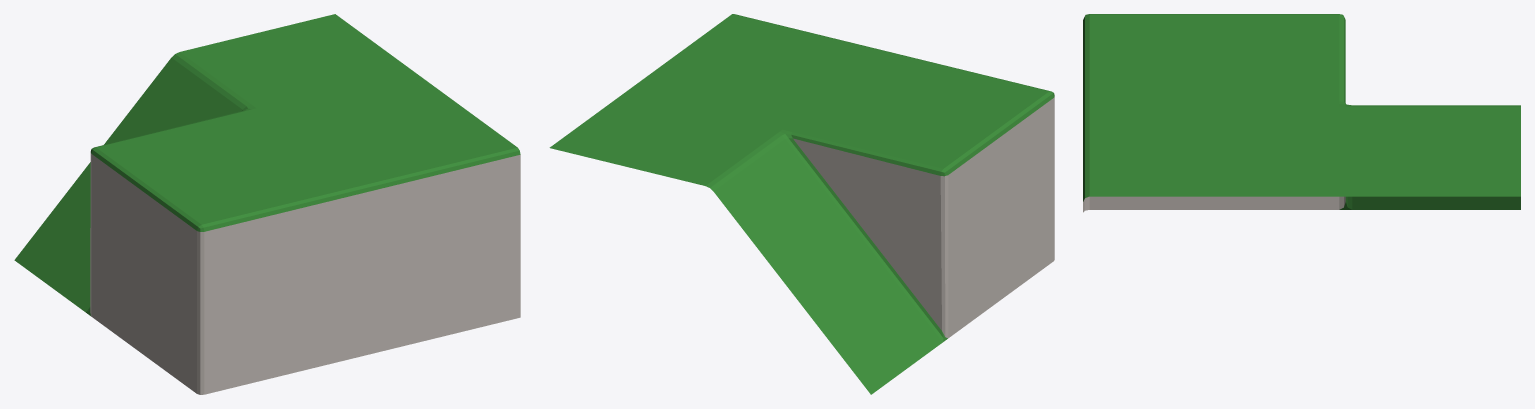
File: cliff_ramp_end_r_2side.fbx
3 views of the same model, side by side, from view 1: azimuth 30°, elevation 25°; view 2: azimuth 150°, elevation 25°; view 3: azimuth 270°, elevation 25° (orthographic). The views are drawn at different scales.
Visible parts, largest first — view 1: Cliff_Stair1; view 2: Cliff_Stair1; view 3: Cliff_Stair1.
Part boxes in pixels (box(x1,y1,x2,y2)): Cliff_Stair1: box(14, 14, 520, 394); Cliff_Stair1: box(549, 14, 1054, 394); Cliff_Stair1: box(1083, 14, 1520, 212).
Bounding box in the file's own units: 200 × 100 × 200.
